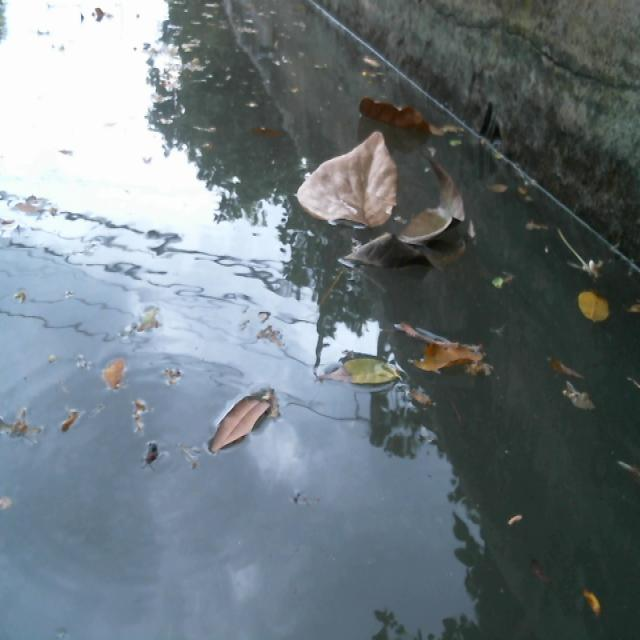Big-leaf: (341, 158, 482, 279), (292, 121, 400, 239), (402, 324, 498, 378), (359, 88, 458, 138)
Small-leaf: (198, 383, 281, 466), (321, 348, 404, 405), (542, 353, 603, 413), (575, 285, 618, 345), (102, 351, 126, 388)
